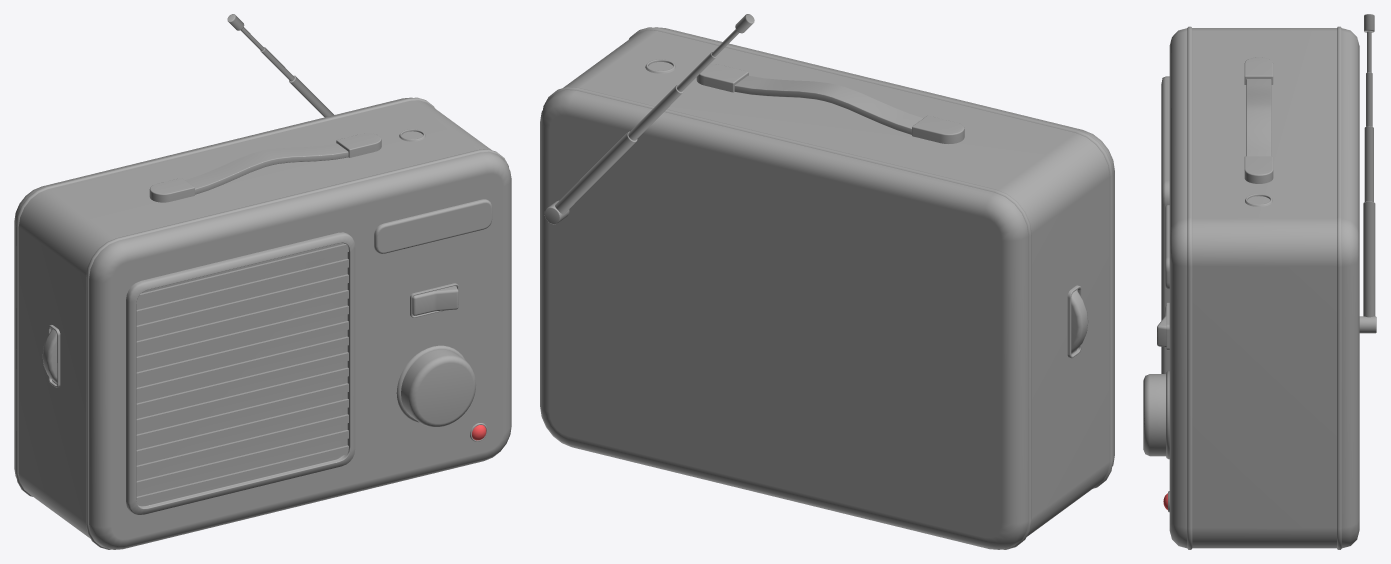
The model's file is RadioReceiver.fbx.
3 views of the same model, side by side, from view 1: azimuth 30°, elevation 25°; view 2: azimuth 150°, elevation 25°; view 3: azimuth 270°, elevation 25° (orthographic). The views are drawn at different scales.
Parts seen in each view (by area): view 1: RadioReceiver, Button; view 2: RadioReceiver; view 3: RadioReceiver, Button.
Part boxes in pixels (bbox=[...]): RadioReceiver: bbox=[14, 14, 511, 549]; Button: bbox=[412, 286, 458, 315]; RadioReceiver: bbox=[540, 14, 1114, 549]; RadioReceiver: bbox=[1143, 14, 1376, 549]; Button: bbox=[1157, 306, 1166, 347].
Bounding box in the file's own units: 67.94 × 63.58 × 29.87.
